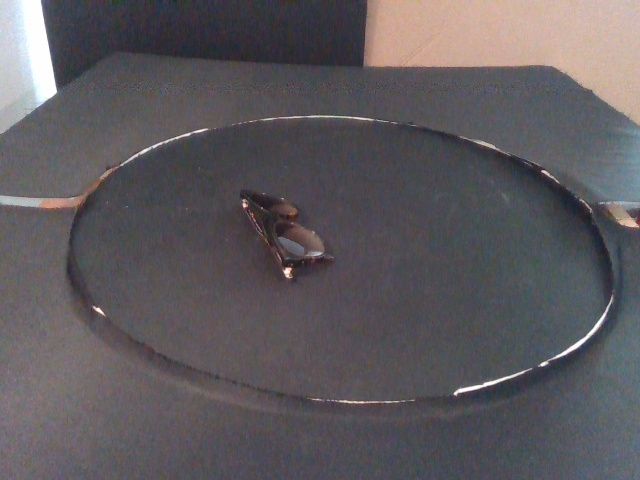glasses: (238, 188, 335, 280)
